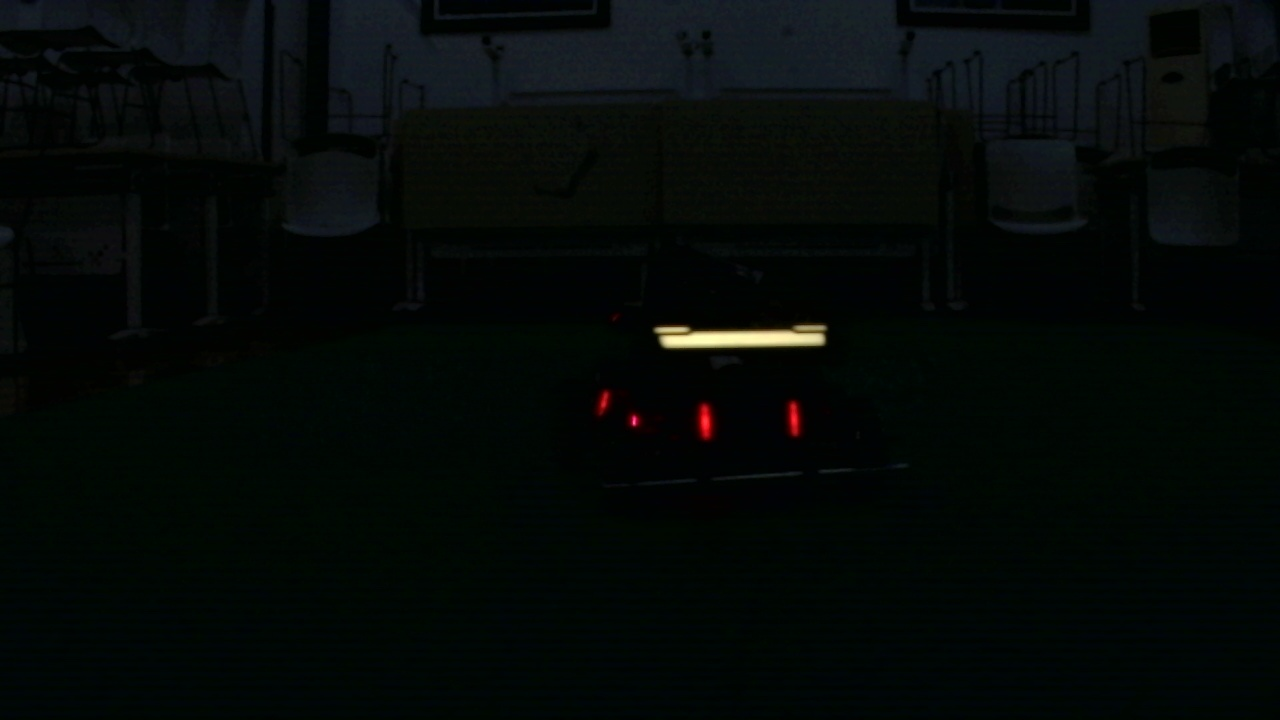lamp: (698, 397, 711, 438), (786, 403, 801, 438), (597, 387, 611, 414)
pair1: (699, 395, 802, 435)
